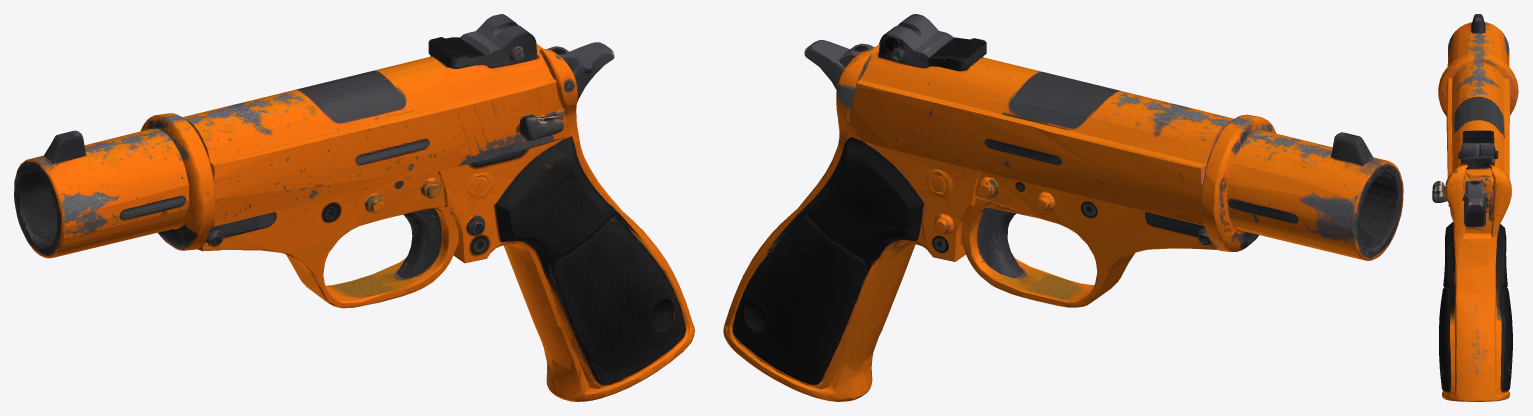
3 renders of one model, left to right at view 1: azimuth 30°, elevation 25°; view 2: azimuth 150°, elevation 25°; view 3: azimuth 270°, elevation 25°, orthographic. The views are drawn at different scales.
Bounding box in the file's own units: 1.9 × 1.07 × 0.3602.
Materials: 1 (1 with a texture image).
